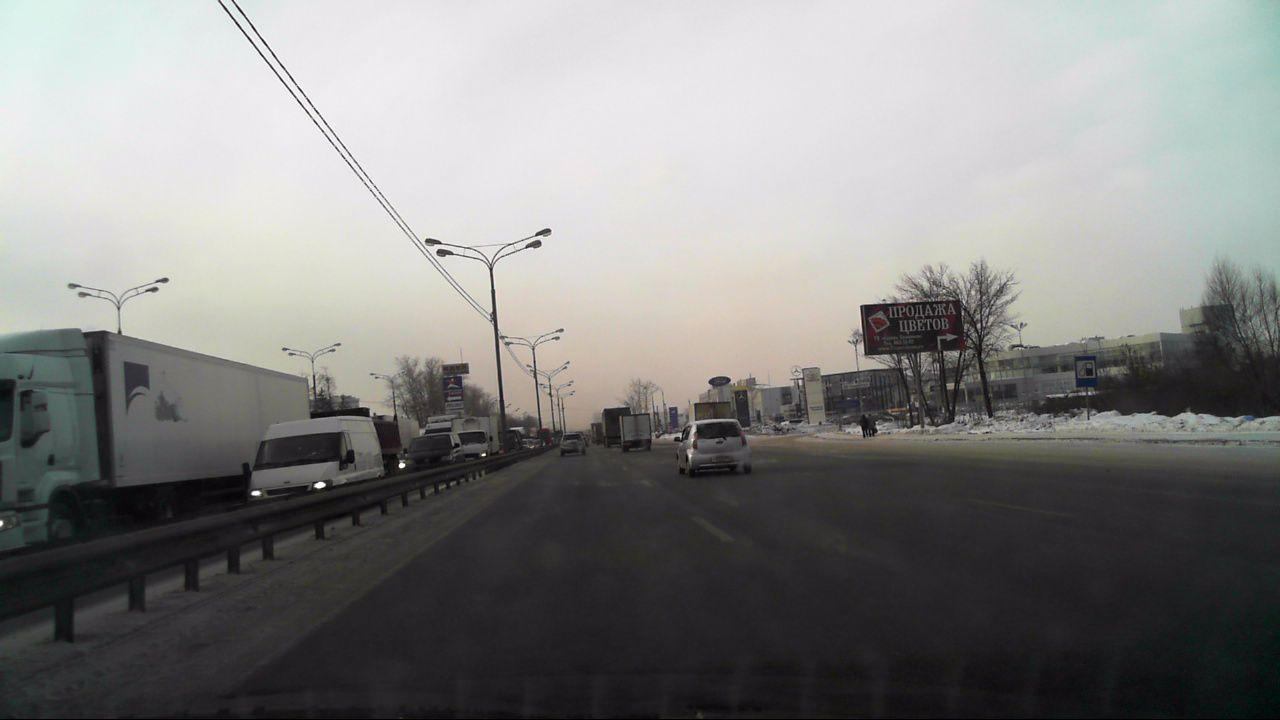7_3: (1074, 355, 1097, 387)
